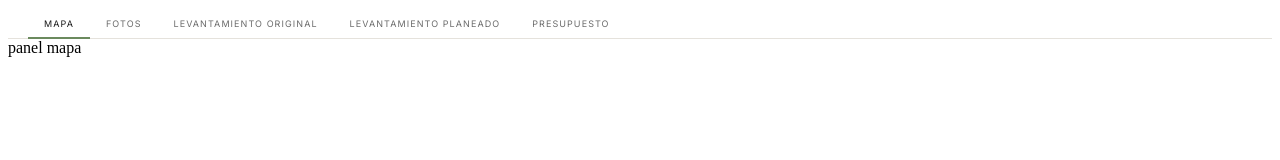
Test: MediaTabs › dibuja tantas pestañas como le den, en el orden en que se las dieron
Click the button "PRESUPUESTO" at point(571, 24), box left=516, top=8, right=626, bottom=39
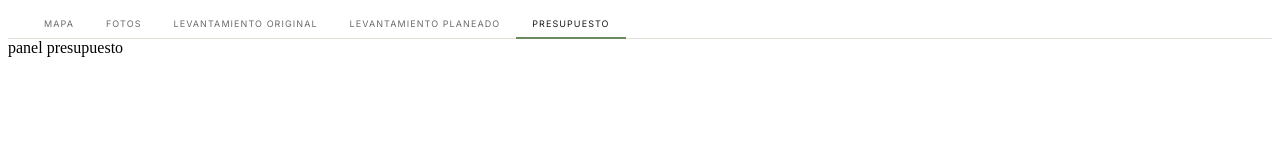
expect the text "panel presupuesto" is shown: met, box left=8, top=39, right=123, bottom=56
